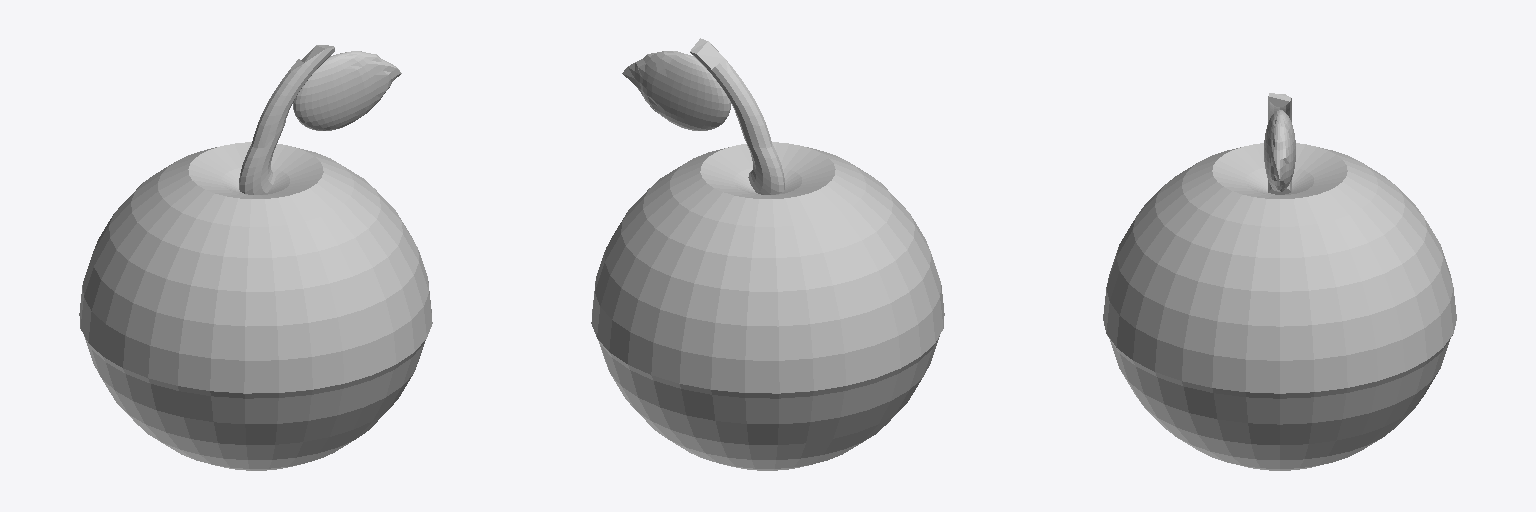
Rendered from apple.obj.
3 views of the same model, side by side, from view 1: azimuth 30°, elevation 25°; view 2: azimuth 150°, elevation 25°; view 3: azimuth 270°, elevation 25° (orthographic).
Parts seen in each view (by area): view 1: Sphere, Sphere.001, Torus; view 2: Sphere, Sphere.001, Torus; view 3: Sphere, Sphere.001, Torus.
Part boxes in pixels (left/top/right/bottom): Sphere: left=79, top=142, right=432, bottom=470; Sphere.001: left=293, top=51, right=401, bottom=130; Torus: left=239, top=45, right=334, bottom=194; Sphere: left=591, top=142, right=944, bottom=470; Sphere.001: left=622, top=51, right=730, bottom=130; Torus: left=690, top=38, right=784, bottom=194; Sphere: left=1103, top=143, right=1456, bottom=470; Sphere.001: left=1264, top=110, right=1295, bottom=191; Torus: left=1268, top=93, right=1291, bottom=194.
Bounding box in the file's own units: 2 × 2.44 × 2.